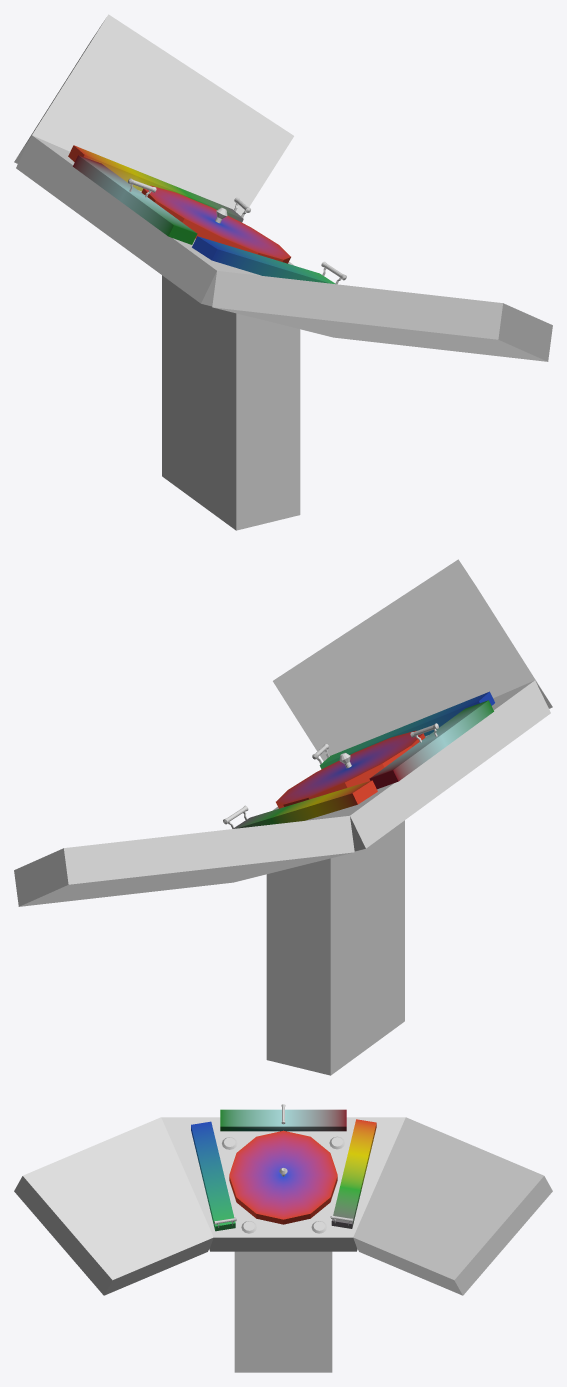
File: ShipControlPanel.fbx
3 views of the same model, one above another, from view 1: azimuth 30°, elevation 25°; view 2: azimuth 150°, elevation 25°; view 3: azimuth 270°, elevation 25° (orthographic). The views are drawn at different scales.
Visible parts, largest first — view 1: Stand, PanelRight, PanelLeft, PanelFront, DirectionControl, RollControl, RotationControl, SpeedControl; view 2: Stand, PanelLeft, PanelRight, PanelFront, DirectionControl, RollControl, SpeedControl, RotationControl; view 3: PanelLeft, PanelRight, Stand, PanelFront, DirectionControl, RollControl, SpeedControl, RotationControl.
Boxes of the visible parts, <box> form: Stand: <box>162,275,300,530</box>; PanelRight: <box>14,14,293,215</box>; PanelLeft: <box>212,270,552,361</box>; PanelFront: <box>16,135,294,306</box>; DirectionControl: <box>141,185,290,263</box>; RollControl: <box>73,155,197,244</box>; RotationControl: <box>192,236,335,284</box>; SpeedControl: <box>68,145,243,222</box>; Stand: <box>266,820,404,1075</box>; PanelLeft: <box>273,559,552,761</box>; PanelRight: <box>14,815,354,906</box>; PanelFront: <box>272,680,550,851</box>; DirectionControl: <box>276,730,425,808</box>; RollControl: <box>369,700,493,789</box>; SpeedControl: <box>233,780,377,828</box>; RotationControl: <box>319,691,494,769</box>; PanelLeft: <box>14,1117,213,1295</box>; PanelRight: <box>353,1117,552,1295</box>; Stand: <box>234,1251,332,1372</box>; PanelFront: <box>161,1117,405,1251</box>; DirectionControl: <box>229,1130,337,1224</box>; RollControl: <box>220,1109,346,1131</box>; SpeedControl: <box>331,1119,376,1228</box>; RotationControl: <box>191,1121,235,1231</box>.
Size of the model in its own units: 123 by 127 by 275.
